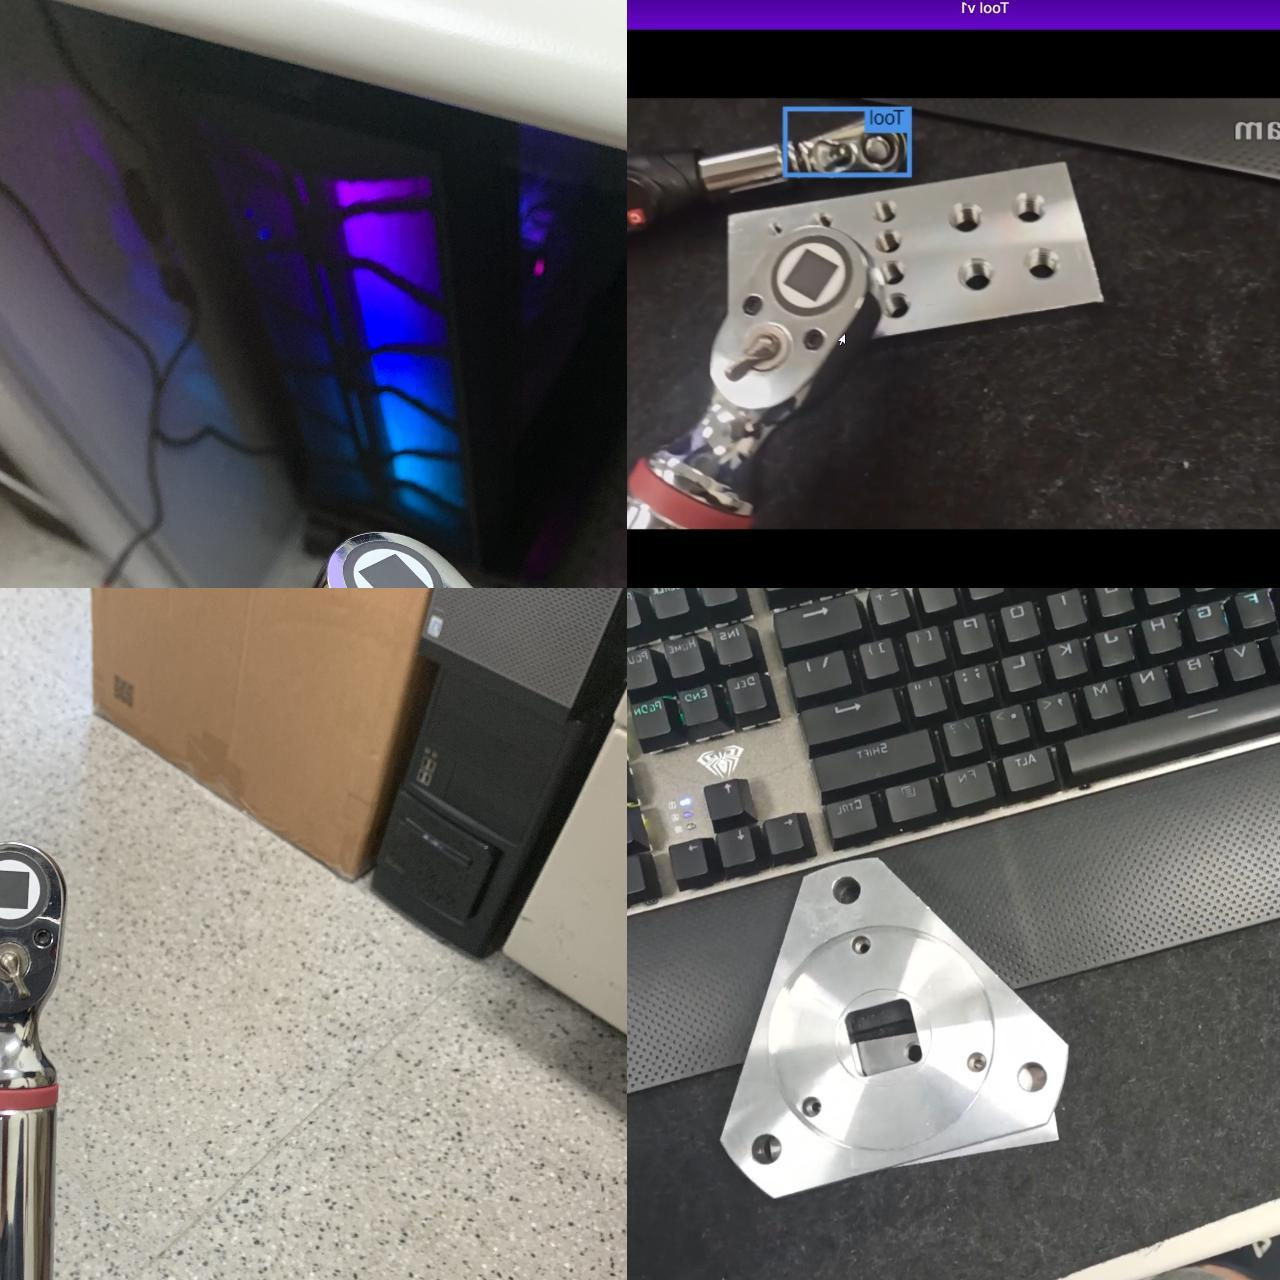Tool: (707, 225, 881, 415), (0, 840, 70, 1088)
hole: (745, 1125, 791, 1170), (1013, 1053, 1051, 1099), (946, 200, 990, 238), (825, 876, 871, 912), (955, 257, 998, 294), (1024, 246, 1063, 282), (791, 1094, 833, 1125), (1012, 191, 1049, 224), (960, 1047, 995, 1075), (880, 291, 911, 322), (878, 258, 906, 288), (849, 934, 877, 961), (877, 230, 904, 256), (873, 199, 901, 224), (815, 212, 835, 231), (768, 219, 783, 237)
